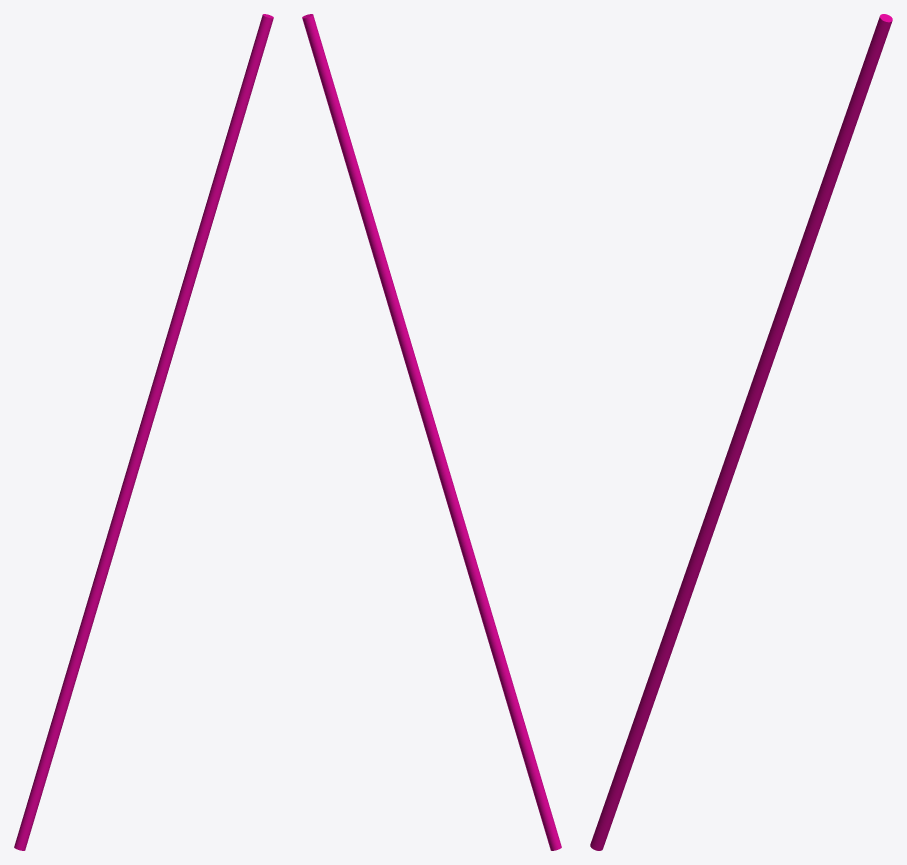
3 renders of one model, left to right at view 1: azimuth 30°, elevation 25°; view 2: azimuth 150°, elevation 25°; view 3: azimuth 330°, elevation 25°, orthographic. The views are drawn at different scales.
Visible parts, largest first — view 1: Циліндр.011; view 2: Циліндр.011; view 3: Циліндр.011.
Part boxes in pixels (<box>): Циліндр.011: <box>14,14,273,850</box>; Циліндр.011: <box>302,14,561,850</box>; Циліндр.011: <box>590,14,892,850</box>.
Bounding box in the file's own units: 2.48 × 7.12 × 0.0964.
